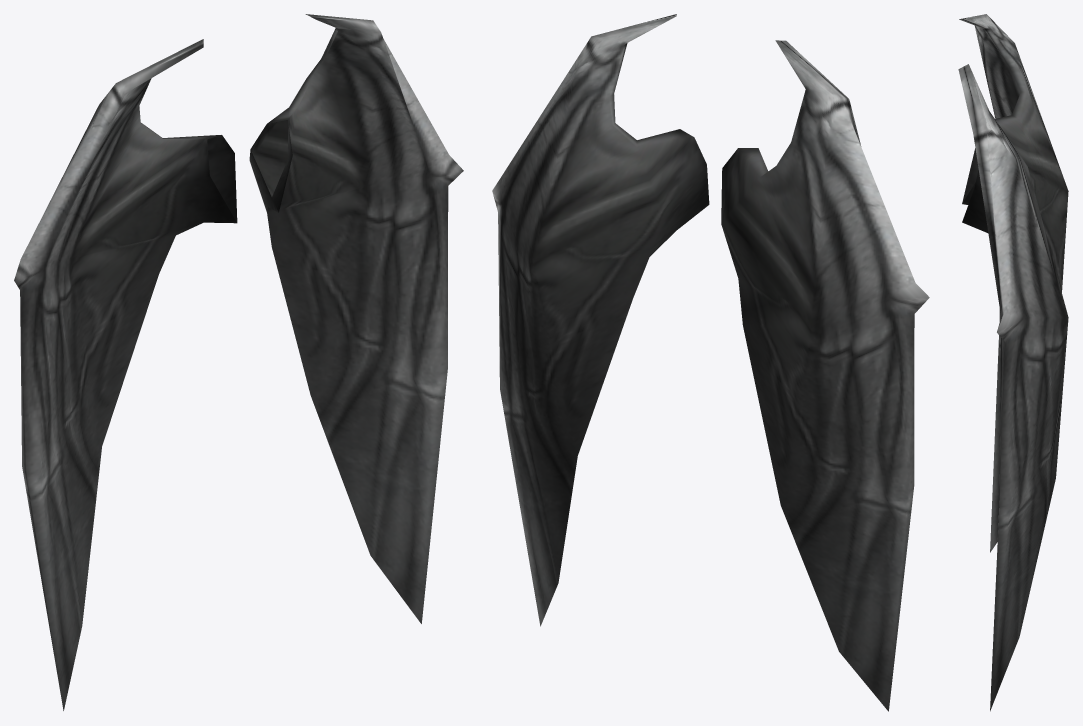
The model's file is GY_diaosu01chibang.fbx.
The picture shows the model from 3 angles, left to right: view 1: azimuth 30°, elevation 25°; view 2: azimuth 150°, elevation 25°; view 3: azimuth 270°, elevation 25°; orthographic projection. The views are drawn at different scales.
Visible parts, largest first — view 1: GY_diaosu01chibang; view 2: GY_diaosu01chibang; view 3: GY_diaosu01chibang.
Part boxes in pixels (left/top/right/bottom): GY_diaosu01chibang: left=14, top=14, right=463, bottom=710; GY_diaosu01chibang: left=492, top=14, right=929, bottom=711; GY_diaosu01chibang: left=958, top=14, right=1068, bottom=711.
Bounding box in the file's own units: 107 × 148 × 24.95.
